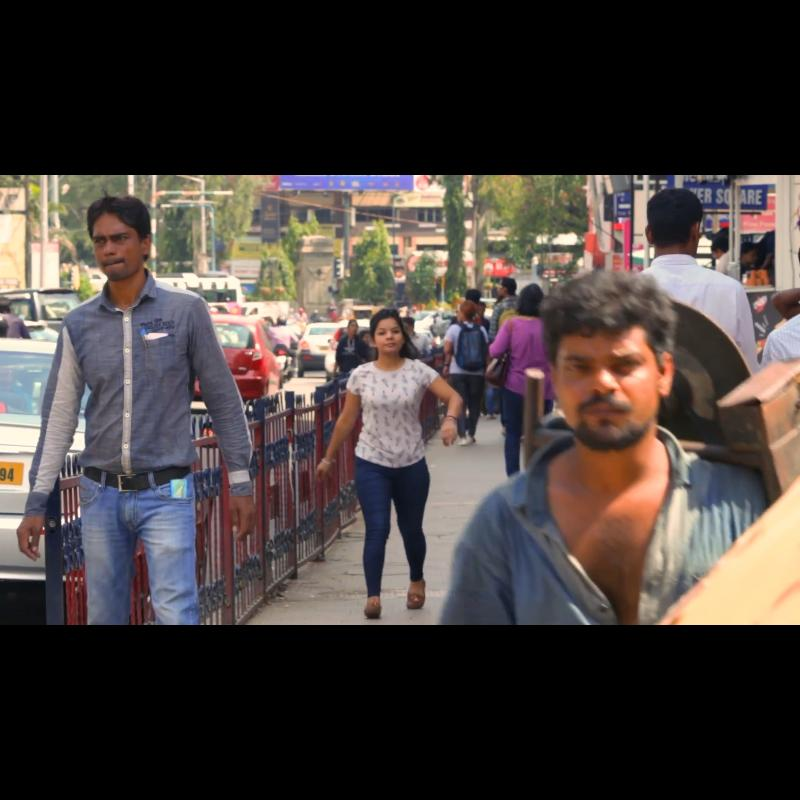Jeans: (347, 457, 428, 597)
Tshirt: (344, 353, 438, 464)
